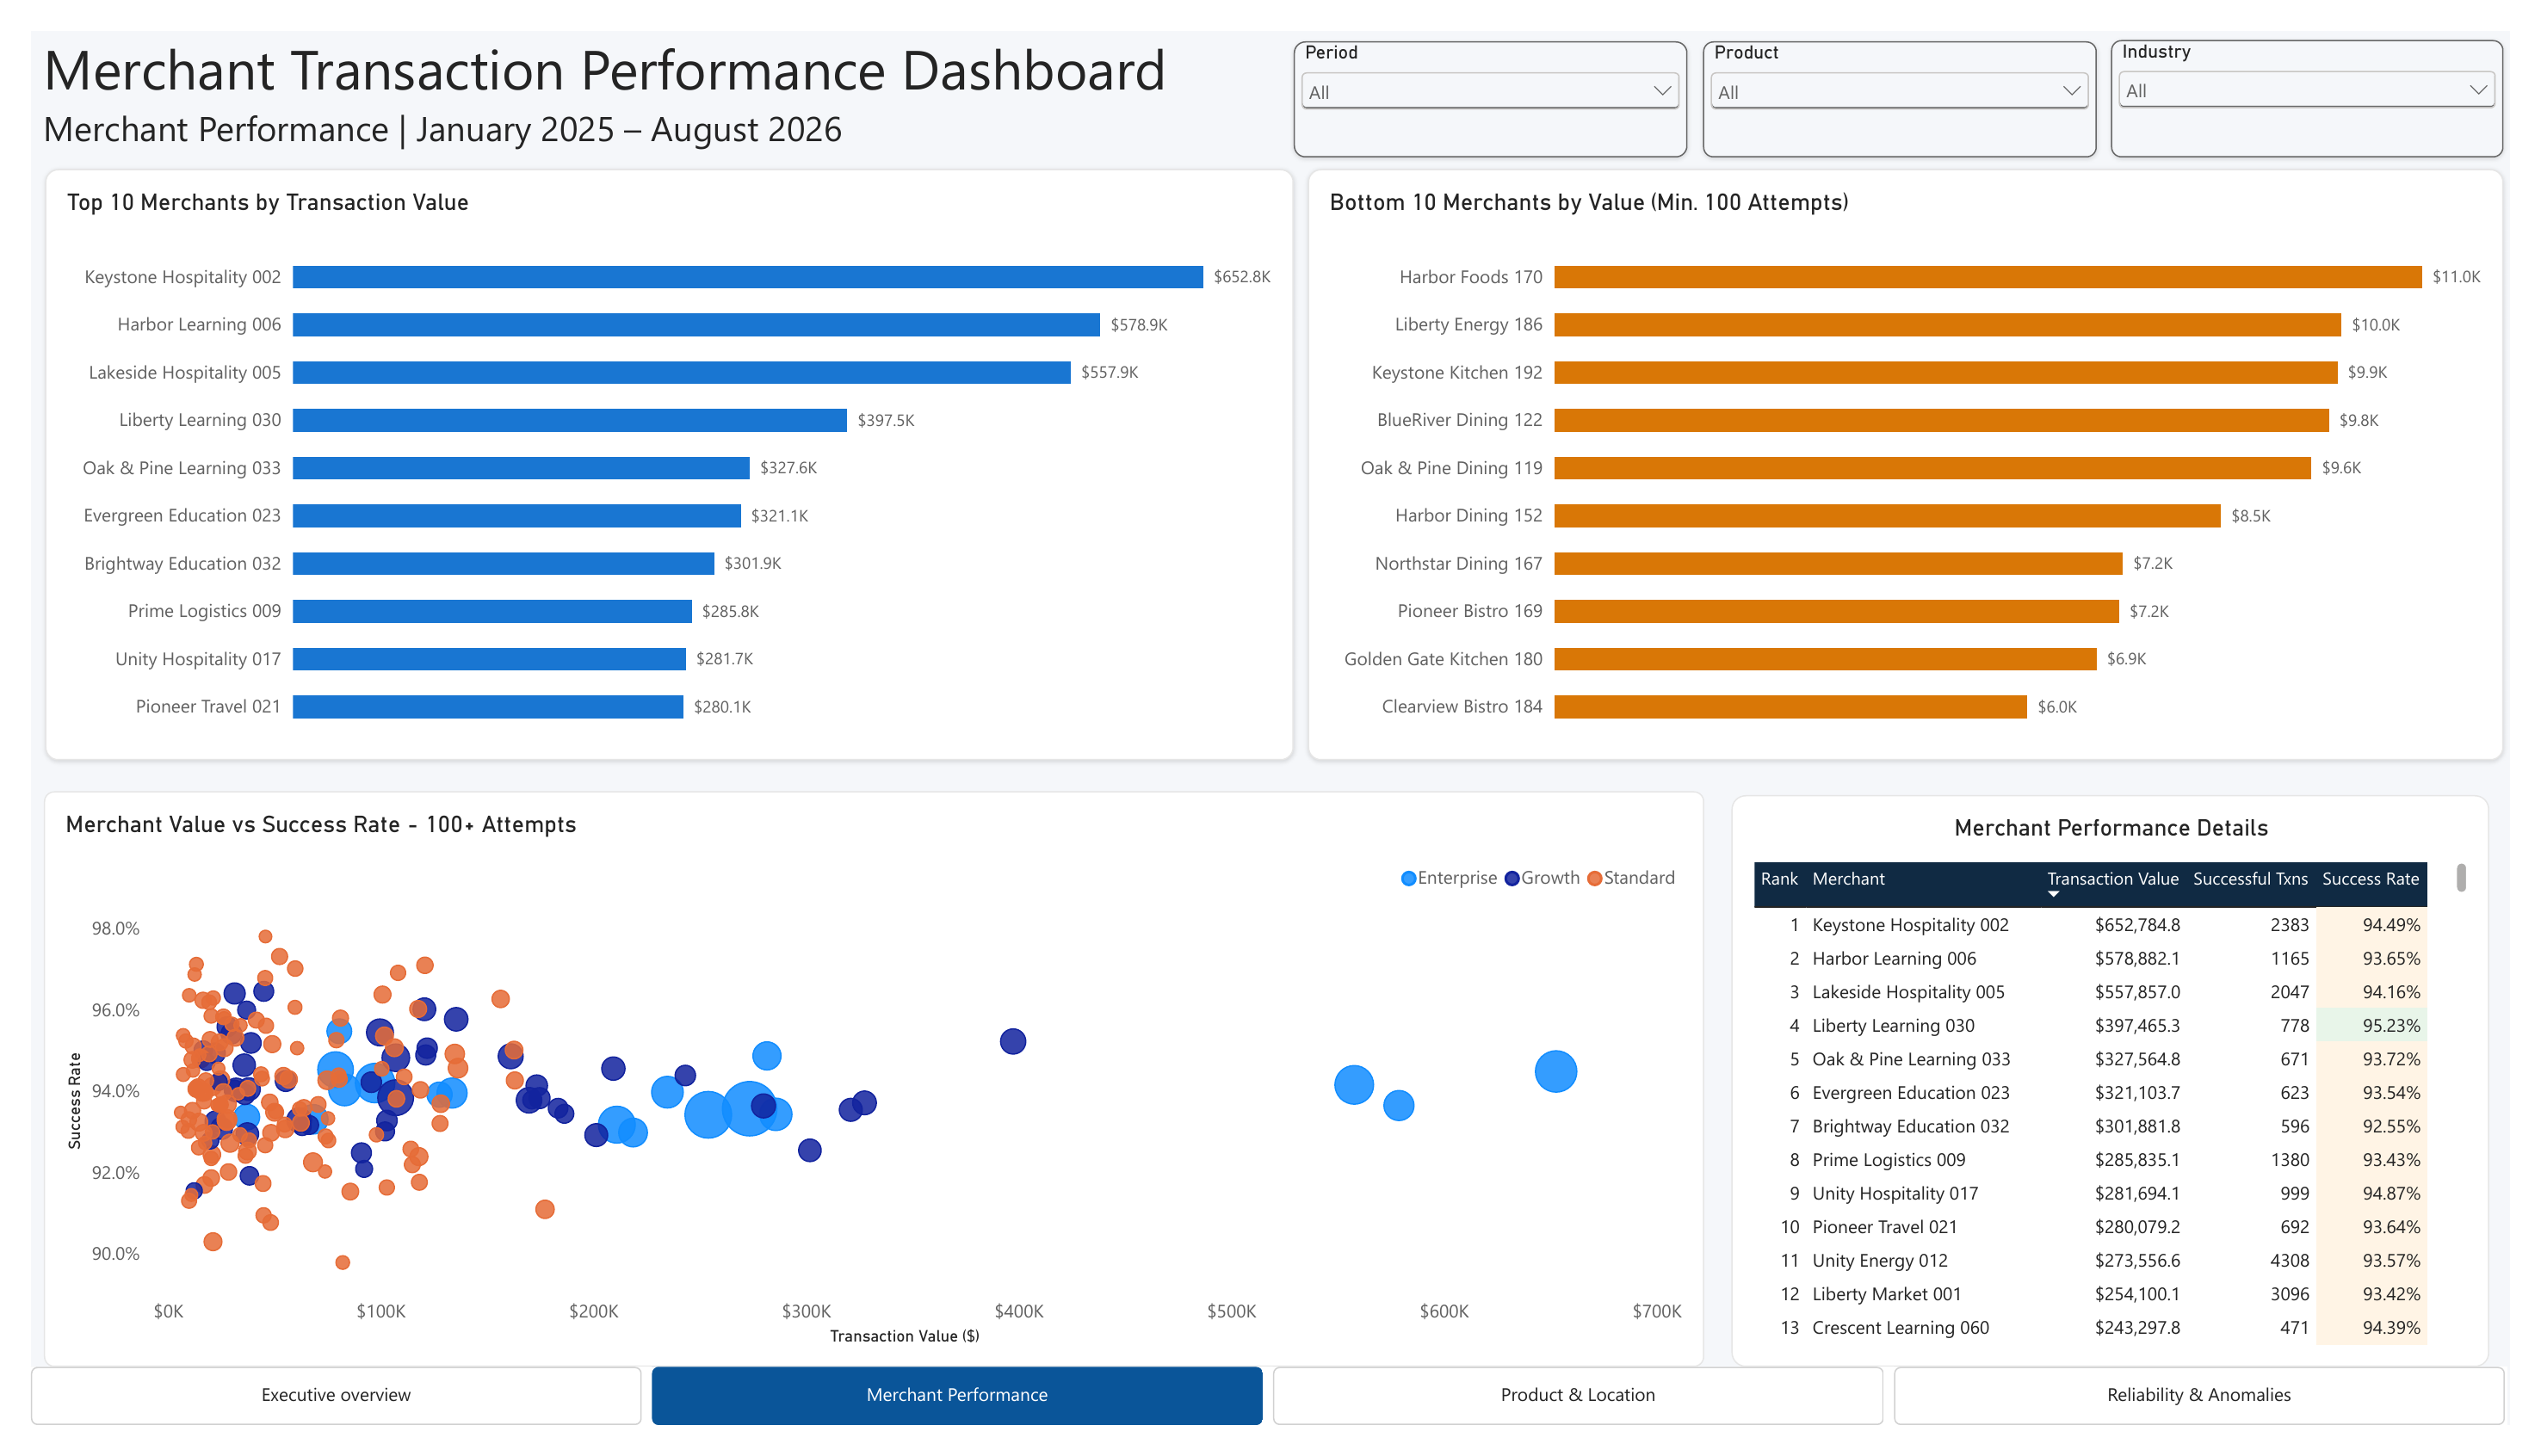

This screenshot's page, from the dashboard's own definition file:
{"tool":"powerbi","page":{"name":"Merchant Performance","canvas":[1920,1080],"ordinal":1},"visuals":[{"type":"textbox","box":[10,0,907.5,120],"z":0},{"type":"slicer","fields":{"Values":["DimDate.Month Year"]},"box":[977.5,7.5,305,90],"z":1000},{"type":"slicer","fields":{"Values":["merchants.industry"]},"box":[1610.9,6.5,304.3,91.3],"z":2000},{"type":"slicer","fields":{"Values":["products.product_name"]},"box":[1295,7.5,305,90],"z":3000},{"type":"clusteredBarChart","title":"Top 10 Merchants by Transaction Value","fields":{"Category":["merchants.merchant_name"],"Y":["_Measures.Transaction Value"]},"box":[10.9,106.5,967.4,458.7],"z":4000},{"type":"clusteredBarChart","title":"Bottom 10 Merchants by Value (Min. 100 Attempts)","fields":{"Category":["merchants.merchant_name"],"Y":["_Measures.Transaction Value"]},"box":[989.1,106.5,926.1,458.7],"z":5000},{"type":"scatterChart","title":"Merchant Value vs Success Rate - 100+ Attempts","fields":{"Category":["merchants.merchant_name"],"X":["_Measures.Transaction Value"],"Y":["_Measures.Success Rate"],"Size":["_Measures.Transaction Count"],"Series":["merchants.account_type"]},"box":[10.3,589.5,1285.8,445.7],"z":6000},{"type":"tableEx","title":"Merchant Performance Details","fields":{"Values":["_Measures.Merchant Value Rank","merchants.merchant_name","_Measures.Transaction Value","_Measures.Transaction Count","_Measures.Success Rate"]},"box":[1316.6,591.5,587.4,443.6],"z":7000},{"type":"pageNavigator","box":[0,1034.8,1918.4,45.2],"z":8000}]}

Visuals, with their boxes in screenshot pixels (x1, y1, x2, y2), scaled from the page's 1920x1080 canvas onto the 2541x1456 screenshot:
textbox: left=13, top=0, right=1215, bottom=162
slicer - DimDate.Month Year: left=1294, top=10, right=1697, bottom=132
slicer - merchants.industry: left=2132, top=9, right=2535, bottom=132
slicer - products.product_name: left=1714, top=10, right=2117, bottom=132
"Top 10 Merchants by Transaction Value" clusteredBarChart: left=15, top=144, right=1295, bottom=762
"Bottom 10 Merchants by Value (Min. 100 Attempts)" clusteredBarChart: left=1309, top=144, right=2535, bottom=762
"Merchant Value vs Success Rate - 100+ Attempts" scatterChart: left=14, top=795, right=1716, bottom=1396
"Merchant Performance Details" tableEx: left=1742, top=798, right=2519, bottom=1396
pageNavigator: left=0, top=1395, right=2539, bottom=1455
